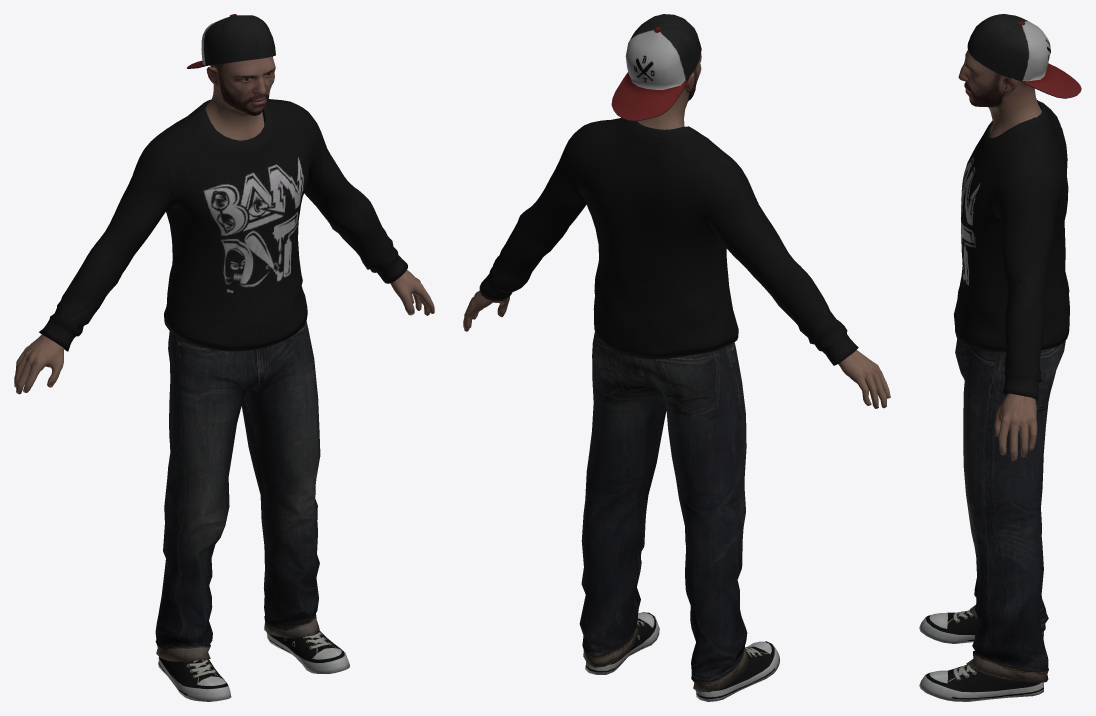
File: skin-1-228.glb
3 views of the same model, side by side, from view 1: azimuth 30°, elevation 25°; view 2: azimuth 150°, elevation 25°; view 3: azimuth 270°, elevation 25° (orthographic).
Visible parts, largest first — view 1: skin-1-228; view 2: skin-1-228; view 3: skin-1-228.
Boxes of the visible parts, box(x1,y1,x2,y2) form: skin-1-228: box(14, 14, 434, 701); skin-1-228: box(463, 14, 890, 701); skin-1-228: box(919, 14, 1081, 701).
Bounding box in the file's own units: 1.25 × 1.86 × 0.4239.
6 materials, 6 textured.
